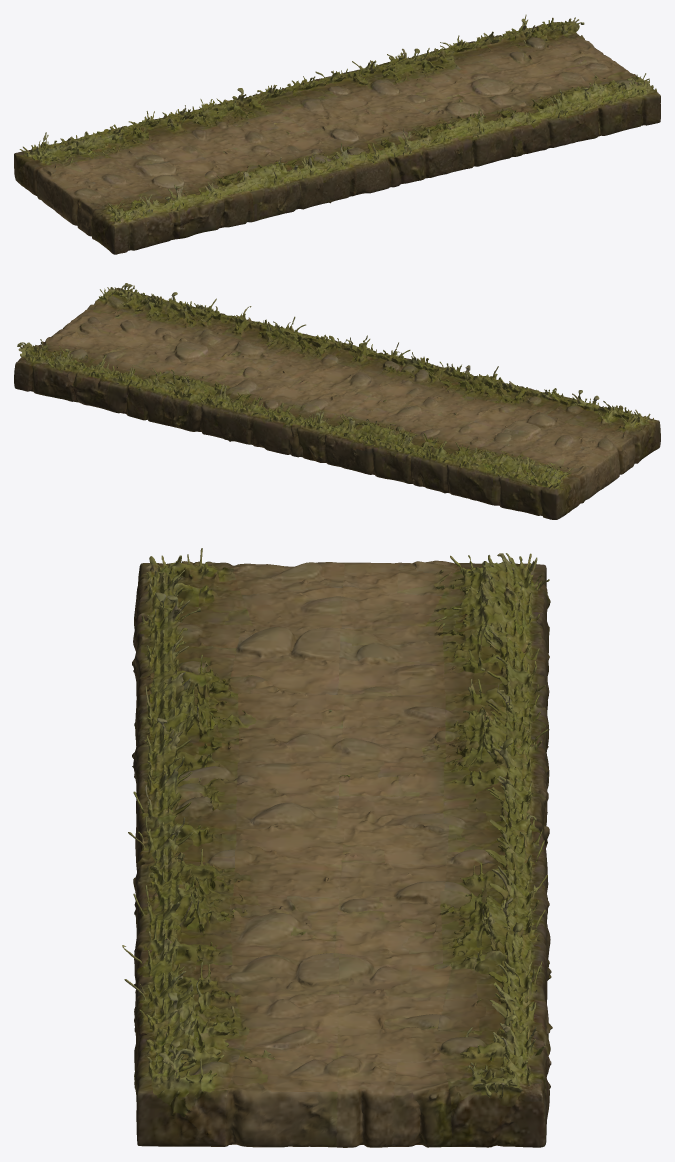
File: Meshy_AI_road_straight_dirt_0823031956_image-to-3d-texture.glb
3 renders of one model, top to bottom at view 1: azimuth 30°, elevation 25°; view 2: azimuth 150°, elevation 25°; view 3: azimuth 270°, elevation 25°, orthographic. The views are drawn at different scales.
Parts seen in each view (by area): view 1: mesh_node; view 2: mesh_node; view 3: mesh_node.
Part boxes in pixels (x1,y1,x2,y2): mesh_node: [14, 14, 660, 254]; mesh_node: [14, 283, 660, 519]; mesh_node: [122, 548, 552, 1147].
Bounding box in the file's own units: 1.93 × 0.1563 × 0.6462.
1 material, 1 textured.
